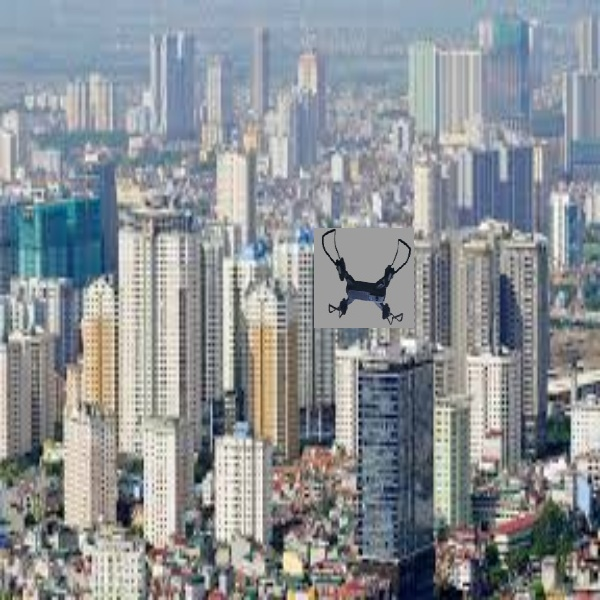drone: (315, 224, 413, 328)
